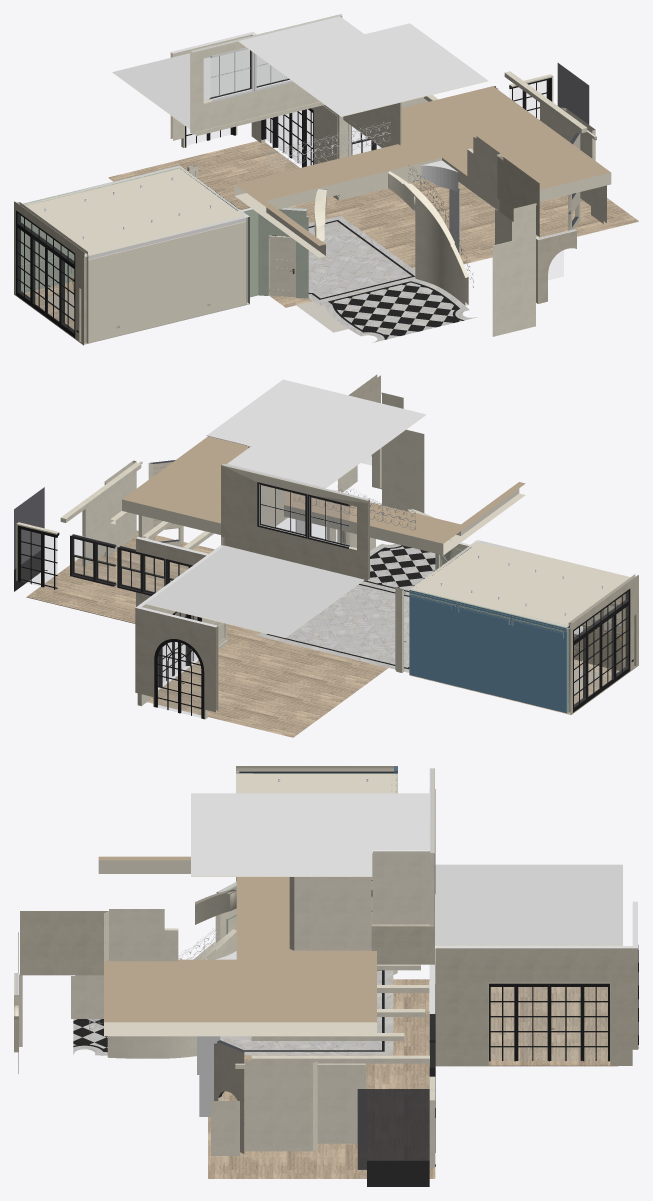
Rendered from dining-room-0cc8f9f44ad1.glb.
The picture shows the model from 3 angles, top to bottom: view 1: azimuth 30°, elevation 25°; view 2: azimuth 150°, elevation 25°; view 3: azimuth 270°, elevation 25°; orthographic projection. The views are drawn at different scales.
Parts seen in each view (by area): view 1: dining-room-look-2575515a05775d9e, dining-room-look-9d91b47435c6fb33, dining-room-look-3b0077416469e01b, dining-room-d999b7e09afcf2f4, dining-room-2575515a05775d9e, dining-room-look-4a969f5cc1ae3dfe, dining-room-look-245f595ae2832e16, dining-room-look-e388ad8855329420, dining-room-look-6ea1225136f14ed6, dining-room-look-d5a4a1b5d3594c04, dining-room-look-8c6a7019fd0063e7, dining-room-701dbbc71a4c8bc6 (+40 smaller); view 2: dining-room-look-3b0077416469e01b, dining-room-b19b106fc304963c, dining-room-look-9d91b47435c6fb33, dining-room-look-2575515a05775d9e, dining-room-look-4a969f5cc1ae3dfe, dining-room-2575515a05775d9e, dining-room-look-245f595ae2832e16, dining-room-look-6ea1225136f14ed6, dining-room-look-969b861f9850351e, dining-room-look-d5a4a1b5d3594c04, dining-room-look-cdd3b97a7e9637be, dining-room-look-e388ad8855329420 (+27 smaller); view 3: dining-room-look-2575515a05775d9e, dining-room-look-3b0077416469e01b, dining-room-look-9d91b47435c6fb33, dining-room-look-4a969f5cc1ae3dfe, dining-room-look-e706aa16b4547c37, dining-room-look-5b6bbac285e58726, dining-room-look-69af8f587252f9fa, dining-room-look-62353aa10fc57f23, dining-room-look-cbd4bf73d9724a66, dining-room-look-32b959c9aa406288, dining-room-2575515a05775d9e, dining-room-look-99336d62df756830 (+22 smaller).
Part boxes in pixels (<box>): dining-room-look-2575515a05775d9e: <box>234,86,611,257</box>; dining-room-look-9d91b47435c6fb33: <box>238,16,487,116</box>; dining-room-look-3b0077416469e01b: <box>108,141,638,307</box>; dining-room-d999b7e09afcf2f4: <box>88,216,246,342</box>; dining-room-2575515a05775d9e: <box>15,166,248,256</box>; dining-room-look-4a969f5cc1ae3dfe: <box>112,49,288,129</box>; dining-room-look-245f595ae2832e16: <box>190,14,342,134</box>; dining-room-look-e388ad8855329420: <box>331,282,461,339</box>; dining-room-look-6ea1225136f14ed6: <box>269,221,411,298</box>; dining-room-look-d5a4a1b5d3594c04: <box>492,235,535,336</box>; dining-room-look-8c6a7019fd0063e7: <box>388,171,468,305</box>; dining-room-701dbbc71a4c8bc6: <box>16,210,75,337</box>; dining-room-look-3b0077416469e01b: <box>26,530,387,737</box>; dining-room-b19b106fc304963c: <box>409,590,567,713</box>; dining-room-look-9d91b47435c6fb33: <box>206,379,425,488</box>; dining-room-look-2575515a05775d9e: <box>122,436,525,555</box>; dining-room-look-4a969f5cc1ae3dfe: <box>146,545,364,637</box>; dining-room-2575515a05775d9e: <box>410,541,637,628</box>; dining-room-look-245f595ae2832e16: <box>221,464,369,580</box>; dining-room-look-6ea1225136f14ed6: <box>286,584,409,667</box>; dining-room-look-969b861f9850351e: <box>135,606,218,712</box>; dining-room-look-d5a4a1b5d3594c04: <box>382,429,424,512</box>; dining-room-look-cdd3b97a7e9637be: <box>257,482,307,538</box>; dining-room-look-e388ad8855329420: <box>368,546,435,590</box>; dining-room-look-2575515a05775d9e: <box>98,856,376,1036</box>; dining-room-look-3b0077416469e01b: <box>208,979,617,1178</box>; dining-room-look-9d91b47435c6fb33: <box>191,793,429,876</box>; dining-room-look-4a969f5cc1ae3dfe: <box>435,864,622,945</box>; dining-room-look-e706aa16b4547c37: <box>435,946,632,1065</box>; dining-room-look-5b6bbac285e58726: <box>245,1061,317,1151</box>; dining-room-look-69af8f587252f9fa: <box>289,877,371,950</box>; dining-room-look-62353aa10fc57f23: <box>20,911,108,975</box>; dining-room-look-cbd4bf73d9724a66: <box>357,1089,429,1169</box>; dining-room-look-32b959c9aa406288: <box>372,851,429,924</box>; dining-room-2575515a05775d9e: <box>236,766,397,793</box>; dining-room-look-99336d62df756830: <box>317,1068,365,1143</box>.
Size of the model in its own units: 20 by 6.36 by 16.79.
Materials: 52 (16 with a texture image).
